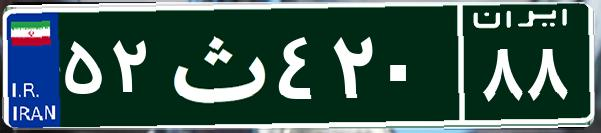0: (385, 28, 445, 110)
2: (330, 28, 385, 110), (110, 28, 158, 105)
4: (273, 28, 330, 110)
5: (57, 26, 110, 107)
8: (475, 38, 525, 113), (525, 38, 570, 115)
ث: (158, 15, 273, 115)
